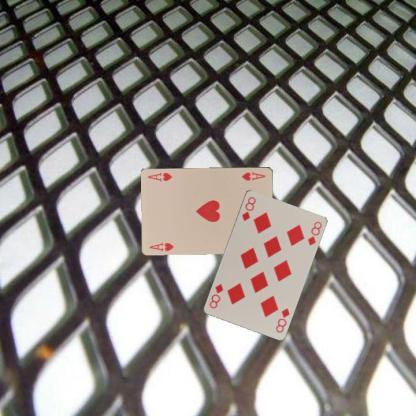8d: (273, 304, 291, 334), (239, 193, 257, 222)
Ah: (146, 239, 176, 253), (239, 168, 266, 182)
